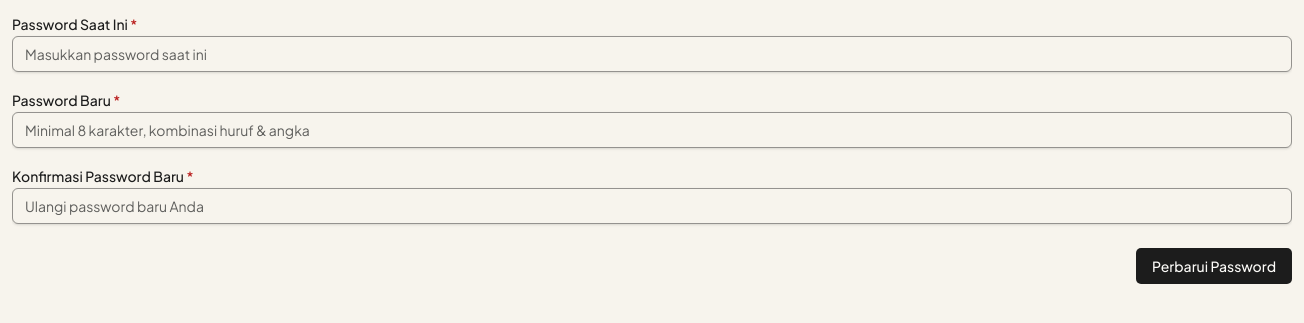
Test: ChangePasswordForm › handles 422 incorrect current password with Indonesian message
Type "WrongCurrentPass1" into the password field labelled "Password Saat Ini *" at [652, 54], box [12, 36, 1292, 72]
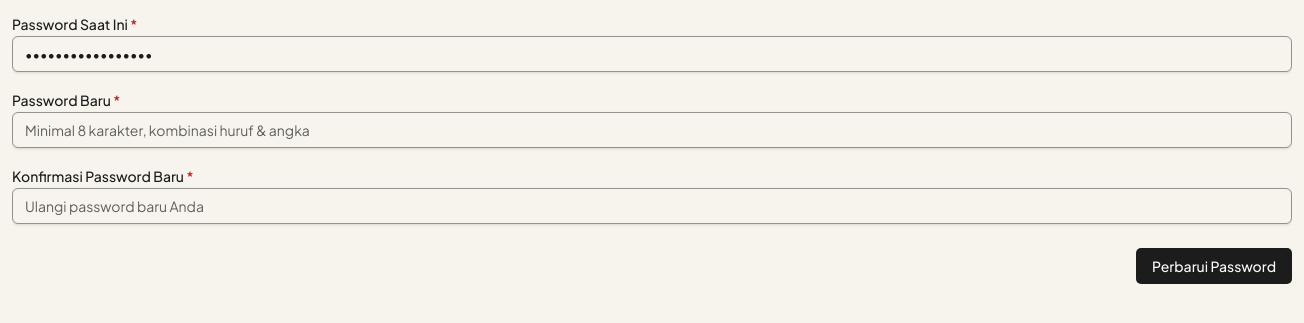
Type "NewSecret123" into the password field labelled "Password Baru *" at [652, 130], box [12, 112, 1292, 148]
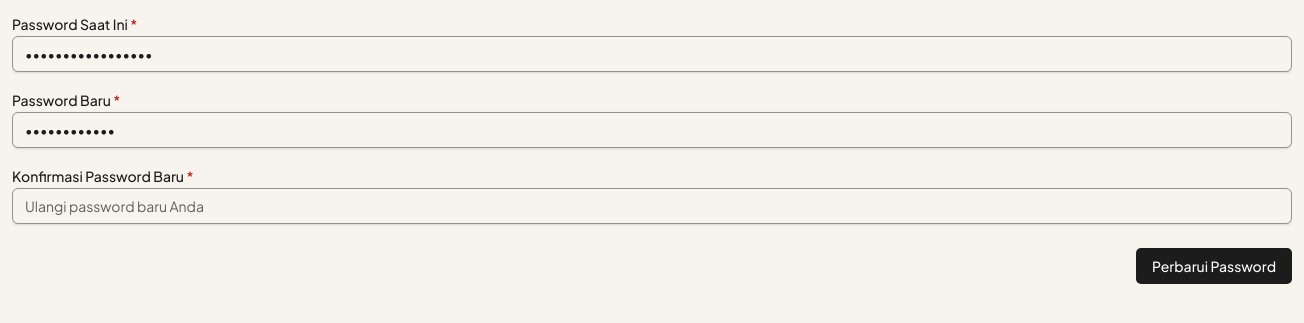
Type "NewSecret123" into the password field labelled "Konfirmasi Password Baru *" at [652, 206], box [12, 188, 1292, 224]
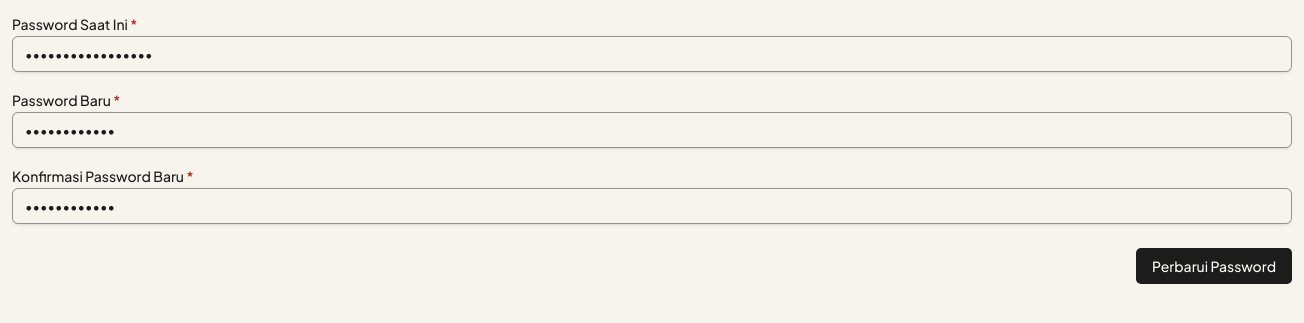
Click the button "Perbarui Password" at [1214, 266], box [1136, 248, 1292, 284]
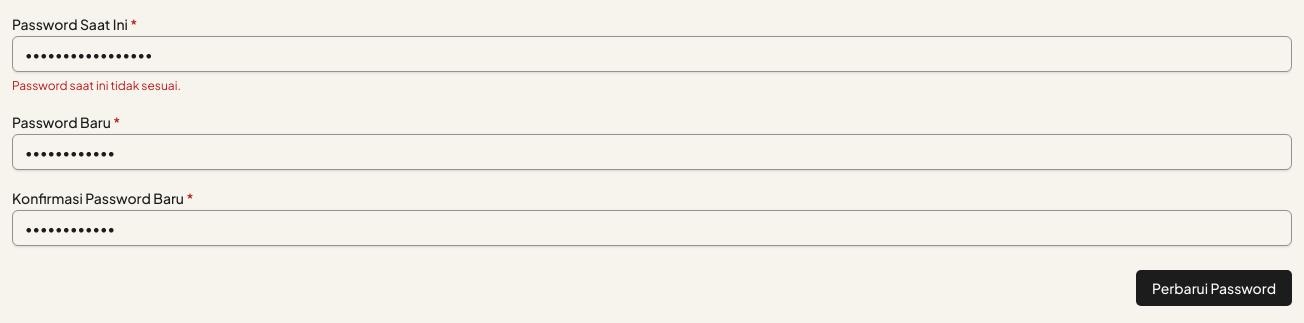
Expected: the text "Password saat ini tidak sesuai." is shown, [12, 78, 181, 93]
